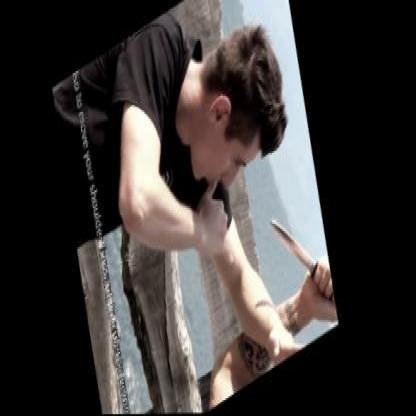knife: (263, 181, 347, 343)
